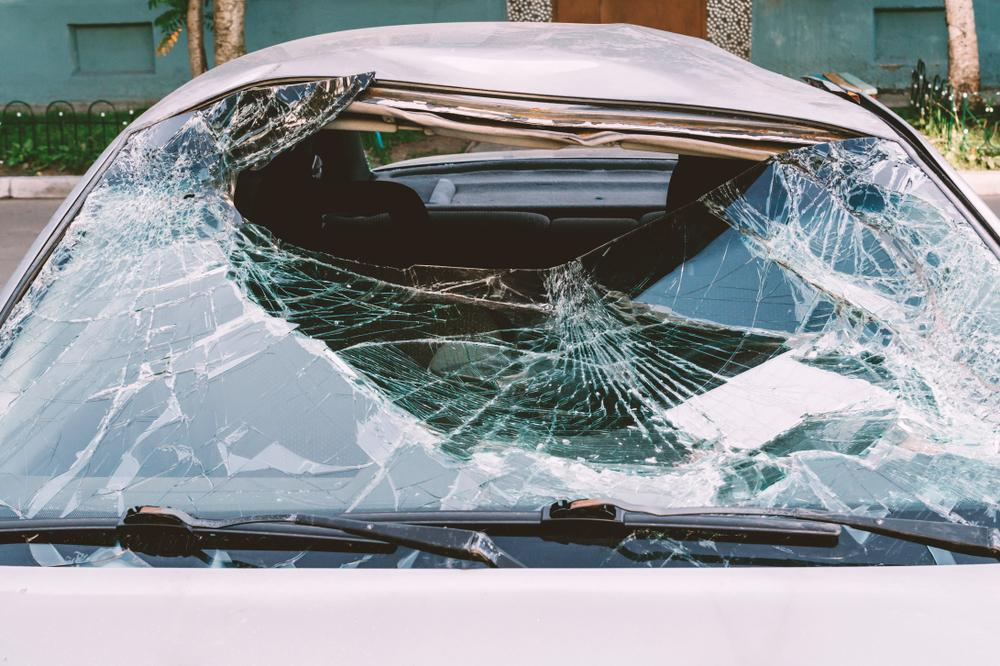dent: (346, 45, 697, 104)
glass shatter: (0, 74, 1000, 569)
